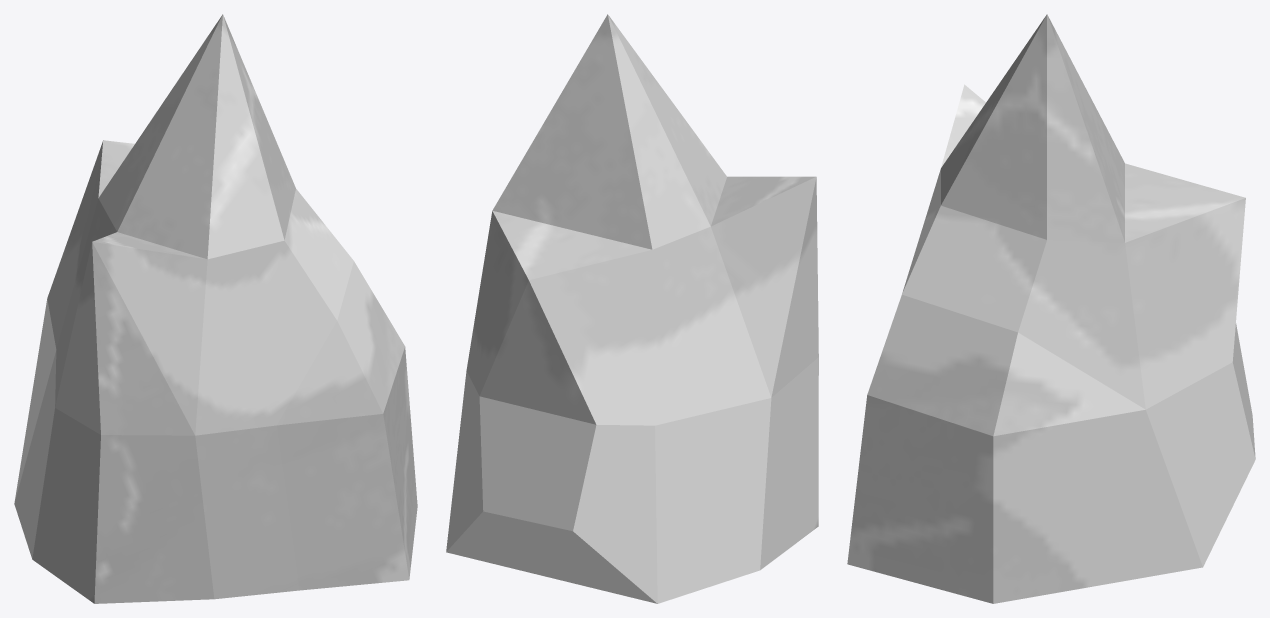
Rendered from CristalShard2.fbx.
3 views of the same model, side by side, from view 1: azimuth 30°, elevation 25°; view 2: azimuth 150°, elevation 25°; view 3: azimuth 270°, elevation 25° (orthographic). The views are drawn at different scales.
Visible parts, largest first — view 1: CristalShard2; view 2: CristalShard2; view 3: CristalShard2.
Part boxes in pixels (bbox=[...]): CristalShard2: bbox=[14, 14, 417, 603]; CristalShard2: bbox=[446, 14, 818, 603]; CristalShard2: bbox=[847, 14, 1255, 603].
Size of the model in its own units: 141 by 203 by 147.
